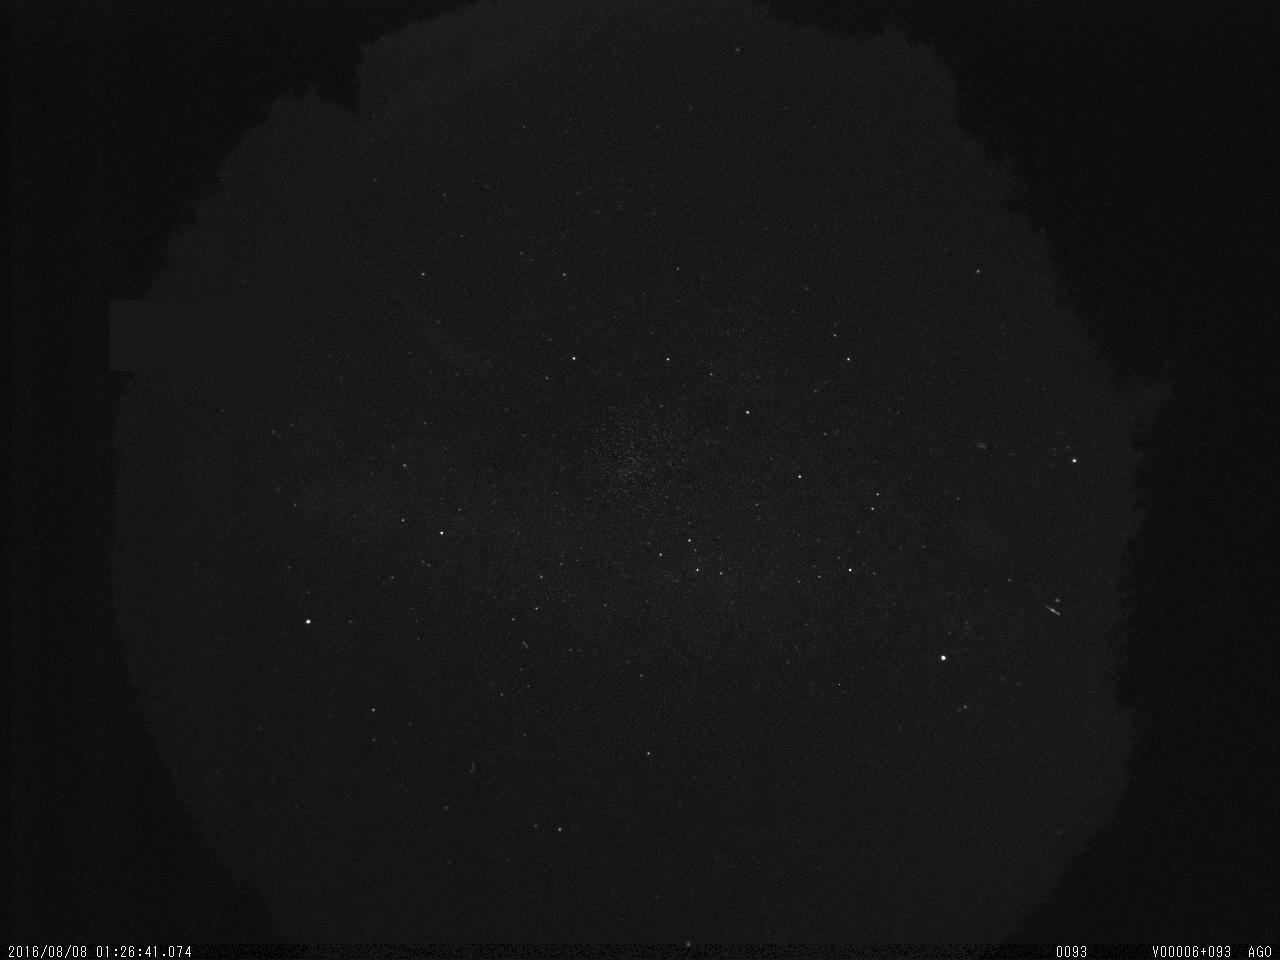meteor: (1041, 602, 1064, 619)
